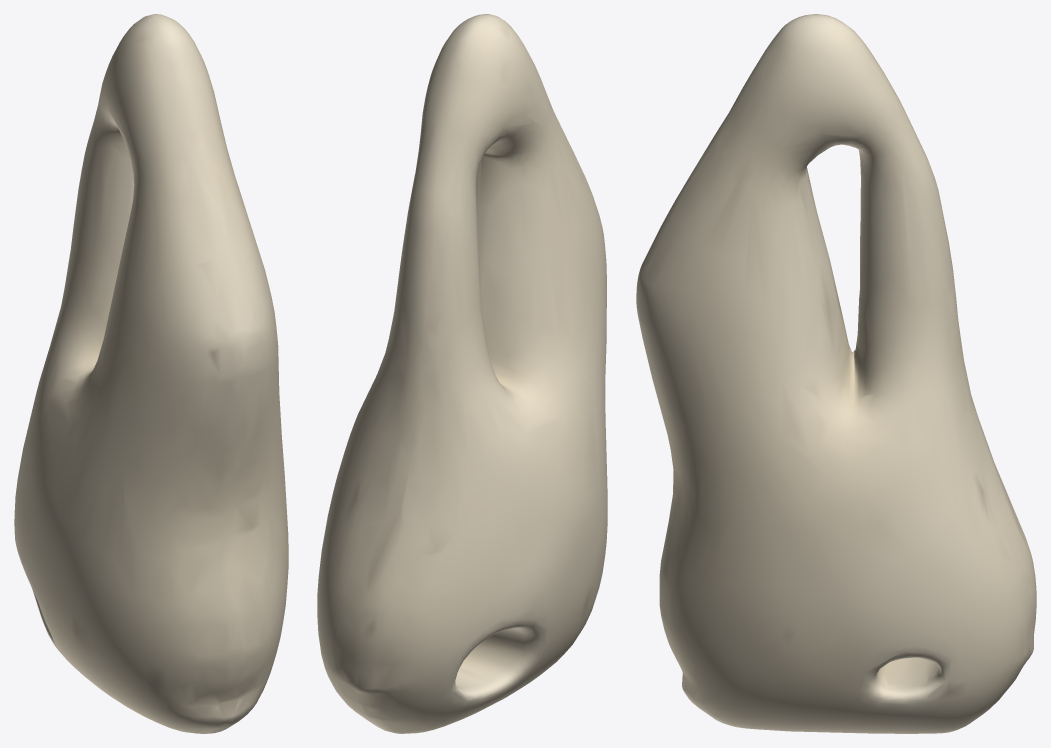
Rendered from knight-white.glb.
3 renders of one model, left to right at view 1: azimuth 30°, elevation 25°; view 2: azimuth 150°, elevation 25°; view 3: azimuth 270°, elevation 25°, orthographic. The views are drawn at different scales.
Visible parts, largest first — view 1: Lumen jezdec bila; view 2: Lumen jezdec bila; view 3: Lumen jezdec bila.
Part boxes in pixels (left/top/right/bottom): Lumen jezdec bila: left=14, top=14, right=288, bottom=733; Lumen jezdec bila: left=317, top=14, right=607, bottom=733; Lumen jezdec bila: left=636, top=14, right=1036, bottom=733.
Size of the model in its own units: 0.3774 by 1.12 by 0.5824.
